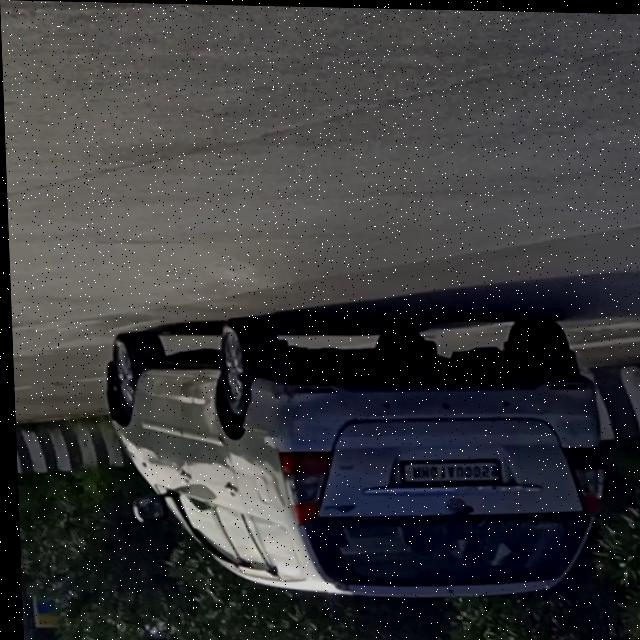plate: (393, 456, 500, 486)
